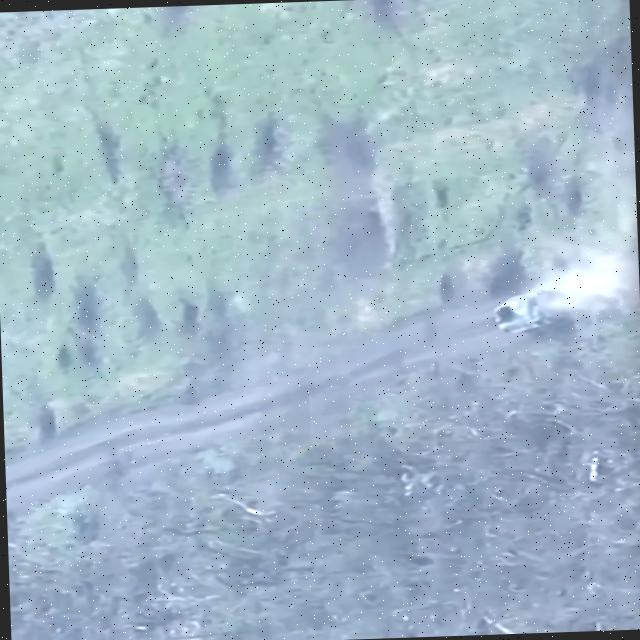APC: (487, 287, 573, 341)
